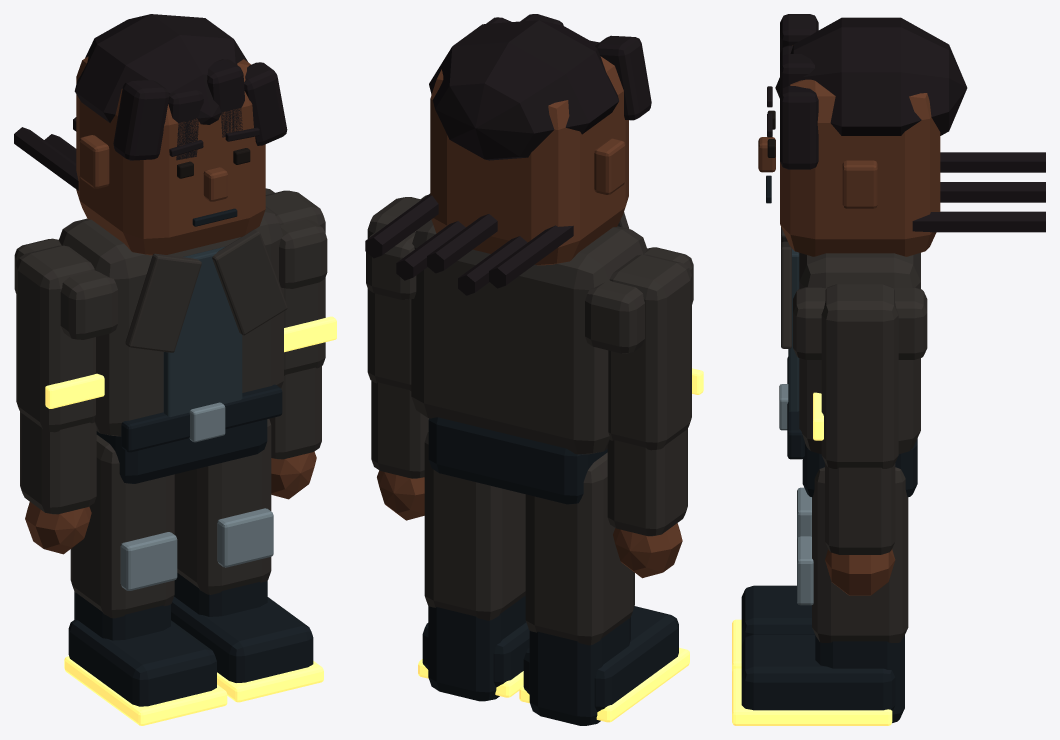
The model's file is agent-veronica.glb.
3 views of the same model, side by side, from view 1: azimuth 30°, elevation 25°; view 2: azimuth 150°, elevation 25°; view 3: azimuth 270°, elevation 25° (orthographic). The views are drawn at different scales.
Parts seen in each view (by area): view 1: head_mesh, torso_mesh, hair_cap, upper_arm_-1, thigh_mesh_-1, thigh_mesh_1, boot_-1, shirt_panel, boot_1, forearm_mesh_-1, waist_mesh, lapel_-1 (+24 smaller); view 2: torso_mesh, head_mesh, hair_cap, thigh_mesh_-1, thigh_mesh_1, upper_arm_-1, waist_mesh, forearm_mesh_-1, shin_mesh_-1, shin_mesh_1, boot_-1, upper_arm_1 (+15 smaller); view 3: head_mesh, hair_cap, upper_arm_1, boot_1, thigh_mesh_1, torso_mesh, forearm_mesh_1, shoulder_pad_1, boot_-1, hair_lock_3, sole_1, shin_mesh_1 (+13 smaller).
Part boxes in pixels (x1=…): head_mesh: x1=76, y1=56, x2=265, y2=255; torso_mesh: x1=59, y1=207, x2=283, y2=436; hair_cap: x1=74, y1=14, x2=248, y2=124; upper_arm_-1: x1=16, y1=245, x2=95, y2=432; thigh_mesh_-1: x1=70, y1=435, x2=174, y2=618; thigh_mesh_1: x1=174, y1=419, x2=271, y2=594; boot_-1: x1=68, y1=619, x2=216, y2=706; shirt_panel: x1=163, y1=246, x2=242, y2=417; boot_1: x1=171, y1=596, x2=313, y2=682; forearm_mesh_-1: x1=20, y1=412, x2=96, y2=514; waist_mesh: x1=96, y1=419, x2=267, y2=483; lapel_-1: x1=125, y1=253, x2=201, y2=352; torso_mesh: x1=411, y1=219, x2=647, y2=454; head_mesh: x1=430, y1=56, x2=628, y2=265; hair_cap: x1=429, y1=20, x2=618, y2=160; thigh_mesh_-1: x1=525, y1=452, x2=634, y2=645; thigh_mesh_1: x1=424, y1=431, x2=525, y2=620; upper_arm_-1: x1=608, y1=254, x2=691, y2=450; waist_mesh: x1=428, y1=417, x2=607, y2=504; forearm_mesh_-1: x1=607, y1=429, x2=687, y2=536; shin_mesh_-1: x1=529, y1=617, x2=630, y2=725; shin_mesh_1: x1=428, y1=595, x2=525, y2=701; boot_-1: x1=523, y1=606, x2=678, y2=711; upper_arm_1: x1=367, y1=197, x2=421, y2=390; head_mesh: x1=780, y1=45, x2=940, y2=256; hair_cap: x1=775, y1=17, x2=967, y2=135; upper_arm_1: x1=821, y1=284, x2=898, y2=468; boot_1: x1=741, y1=634, x2=895, y2=710; thigh_mesh_1: x1=812, y1=467, x2=908, y2=642; torso_mesh: x1=799, y1=252, x2=920, y2=454; forearm_mesh_1: x1=825, y1=463, x2=895, y2=554; shoulder_pad_1: x1=793, y1=287, x2=927, y2=359; boot_-1: x1=741, y1=585, x2=814, y2=644; hair_lock_3: x1=780, y1=86, x2=818, y2=169; sole_1: x1=732, y1=668, x2=892, y2=725; shin_mesh_1: x1=815, y1=635, x2=904, y2=722.
Bounding box in the file's own units: 1.07 × 2.28 × 0.98.
